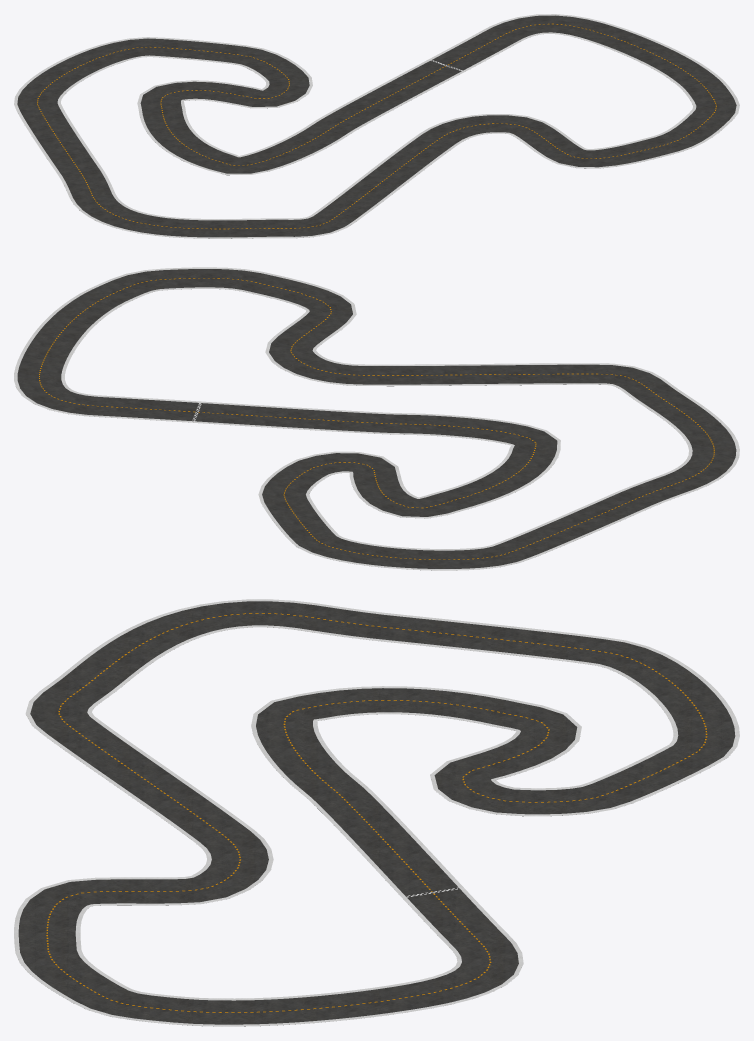
Rendered from 2022_june_pro.dae.
The picture shows the model from 3 angles, top to bottom: view 1: azimuth 30°, elevation 25°; view 2: azimuth 150°, elevation 25°; view 3: azimuth 270°, elevation 25°; orthographic projection. The views are drawn at different scales.
Visible parts, largest first — view 1: road, ol, il, cl; view 2: road, ol, il, cl; view 3: road, ol, il, cl.
Part boxes in pixels (left/top/right/bottom): road: left=17, top=15, right=736, bottom=238; ol: left=14, top=14, right=739, bottom=238; il: left=57, top=32, right=696, bottom=220; cl: left=37, top=23, right=716, bottom=229; road: left=17, top=269, right=736, bottom=570; ol: left=14, top=267, right=739, bottom=570; il: left=61, top=287, right=692, bottom=550; cl: left=39, top=278, right=714, bottom=559; road: left=18, top=601, right=735, bottom=1026; ol: left=14, top=599, right=739, bottom=1026; il: left=75, top=625, right=678, bottom=1000; cl: left=46, top=613, right=707, bottom=1012.
Size of what is drawn, in the model's own units: 16.21 by 11.64 by 0.0015.
Materials: 5 (5 with a texture image).
